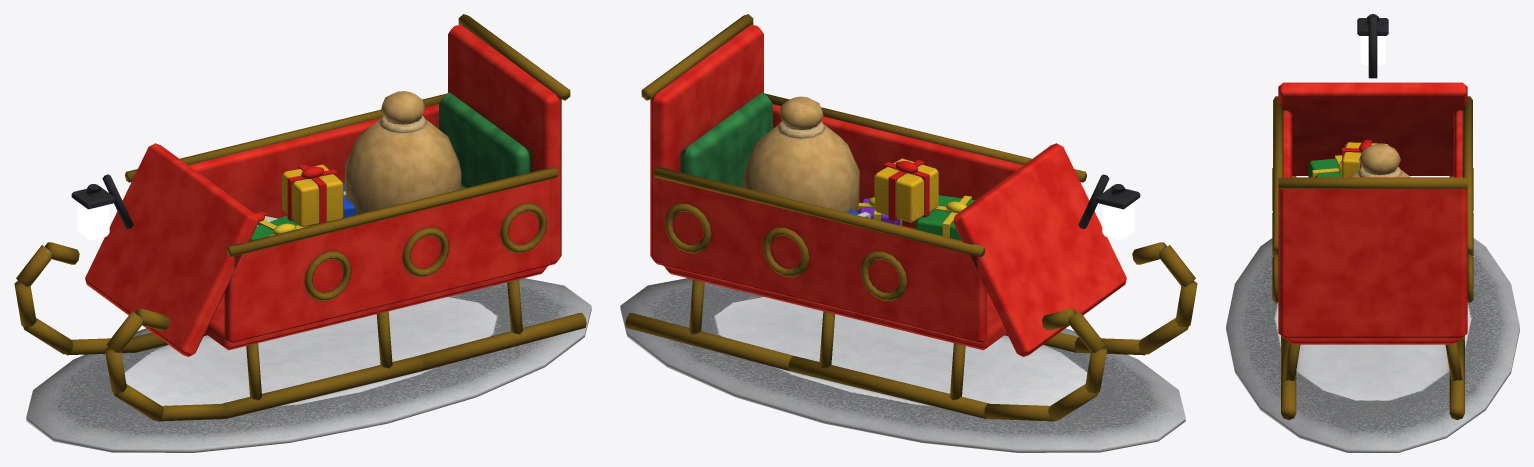
Rendered from gift_sleigh.glb.
3 renders of one model, left to right at view 1: azimuth 30°, elevation 25°; view 2: azimuth 150°, elevation 25°; view 3: azimuth 270°, elevation 25°, orthographic. The views are drawn at different scales.
Visible parts, largest first — view 1: gift_sleigh; view 2: gift_sleigh; view 3: gift_sleigh.
Part boxes in pixels (<box>): gift_sleigh: <box>14,14,591,452</box>; gift_sleigh: <box>620,14,1197,452</box>; gift_sleigh: <box>1226,14,1519,452</box>.
Bounding box in the file's own units: 1.65 × 0.808 × 0.8371.
Materials: 1 (1 with a texture image).
